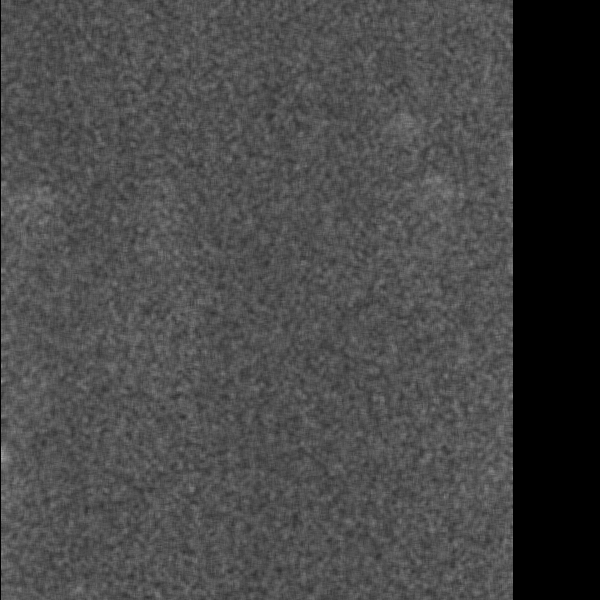spark: (488, 340, 510, 381)
